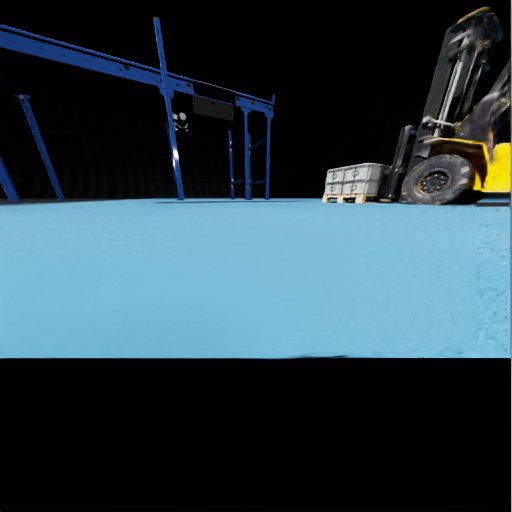transportation_area: (342, 179, 386, 194), (177, 84, 178, 85), (160, 79, 161, 80), (41, 48, 42, 49)
